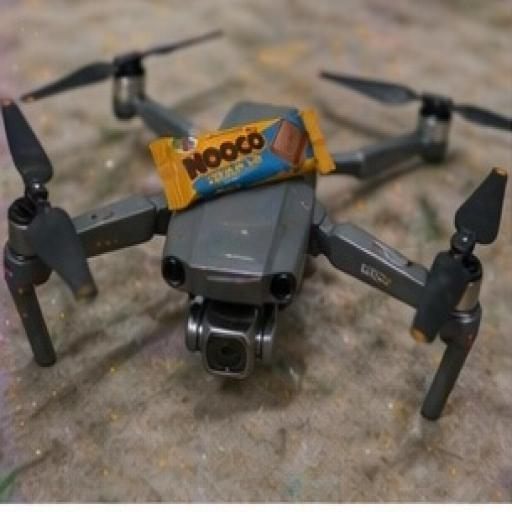nooco: (134, 94, 358, 224)
